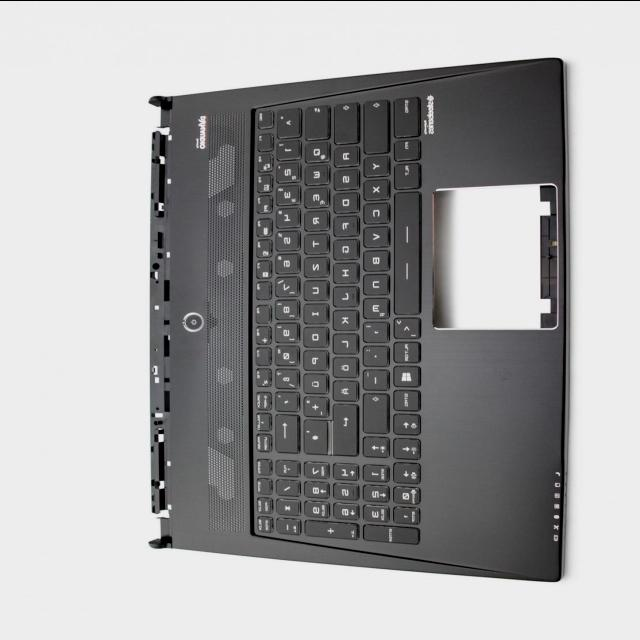0: (271, 343, 297, 363)
1: (273, 138, 299, 158)
2: (273, 161, 299, 181)
3: (272, 183, 298, 203)
4: (272, 206, 298, 226)
5: (272, 228, 298, 248)
6: (272, 252, 298, 272)
7: (272, 275, 298, 295)
8: (272, 297, 298, 317)
9: (271, 321, 297, 341)
a: (330, 143, 358, 165)
accent: (272, 389, 296, 409)
ae: (329, 378, 356, 400)
alt-left: (390, 160, 420, 187)
altgr-right: (391, 340, 419, 362)
b: (360, 248, 388, 270)
c: (360, 200, 387, 222)
caret: (273, 106, 299, 136)
comma: (360, 319, 388, 341)
d: (330, 190, 357, 211)
del: (272, 412, 298, 451)
e: (301, 186, 327, 206)
enter: (329, 402, 357, 454)
f: (330, 214, 356, 234)
g: (330, 237, 357, 257)
h: (330, 260, 357, 281)
hash: (300, 417, 326, 452)
i: (300, 302, 326, 322)
j: (329, 284, 356, 305)
k: (329, 308, 357, 329)
keyboard: (244, 91, 430, 549)
l: (329, 331, 356, 352)
less: (391, 315, 419, 337)
m: (360, 295, 388, 317)
minus: (360, 367, 387, 389)
n: (360, 272, 388, 294)
o: (300, 324, 326, 346)
oe: (329, 355, 356, 376)
p: (300, 348, 326, 368)
plus: (300, 394, 326, 415)
point: (360, 343, 387, 365)
q: (302, 140, 328, 161)
r: (301, 209, 327, 229)
s: (330, 167, 358, 188)
shift-left: (360, 98, 387, 153)
shift-lock: (331, 100, 357, 142)
shift-right: (359, 390, 387, 432)
space: (390, 189, 420, 313)
ss: (272, 367, 298, 387)
strg-left: (390, 94, 418, 136)
strg-right: (389, 388, 419, 410)
t: (301, 232, 327, 252)
tab: (302, 103, 328, 138)
u: (300, 278, 326, 298)
ue: (300, 371, 326, 391)
v: (360, 224, 388, 246)
w: (301, 163, 327, 183)
x: (360, 177, 387, 199)
y: (360, 154, 387, 175)
z: (300, 255, 326, 275)
